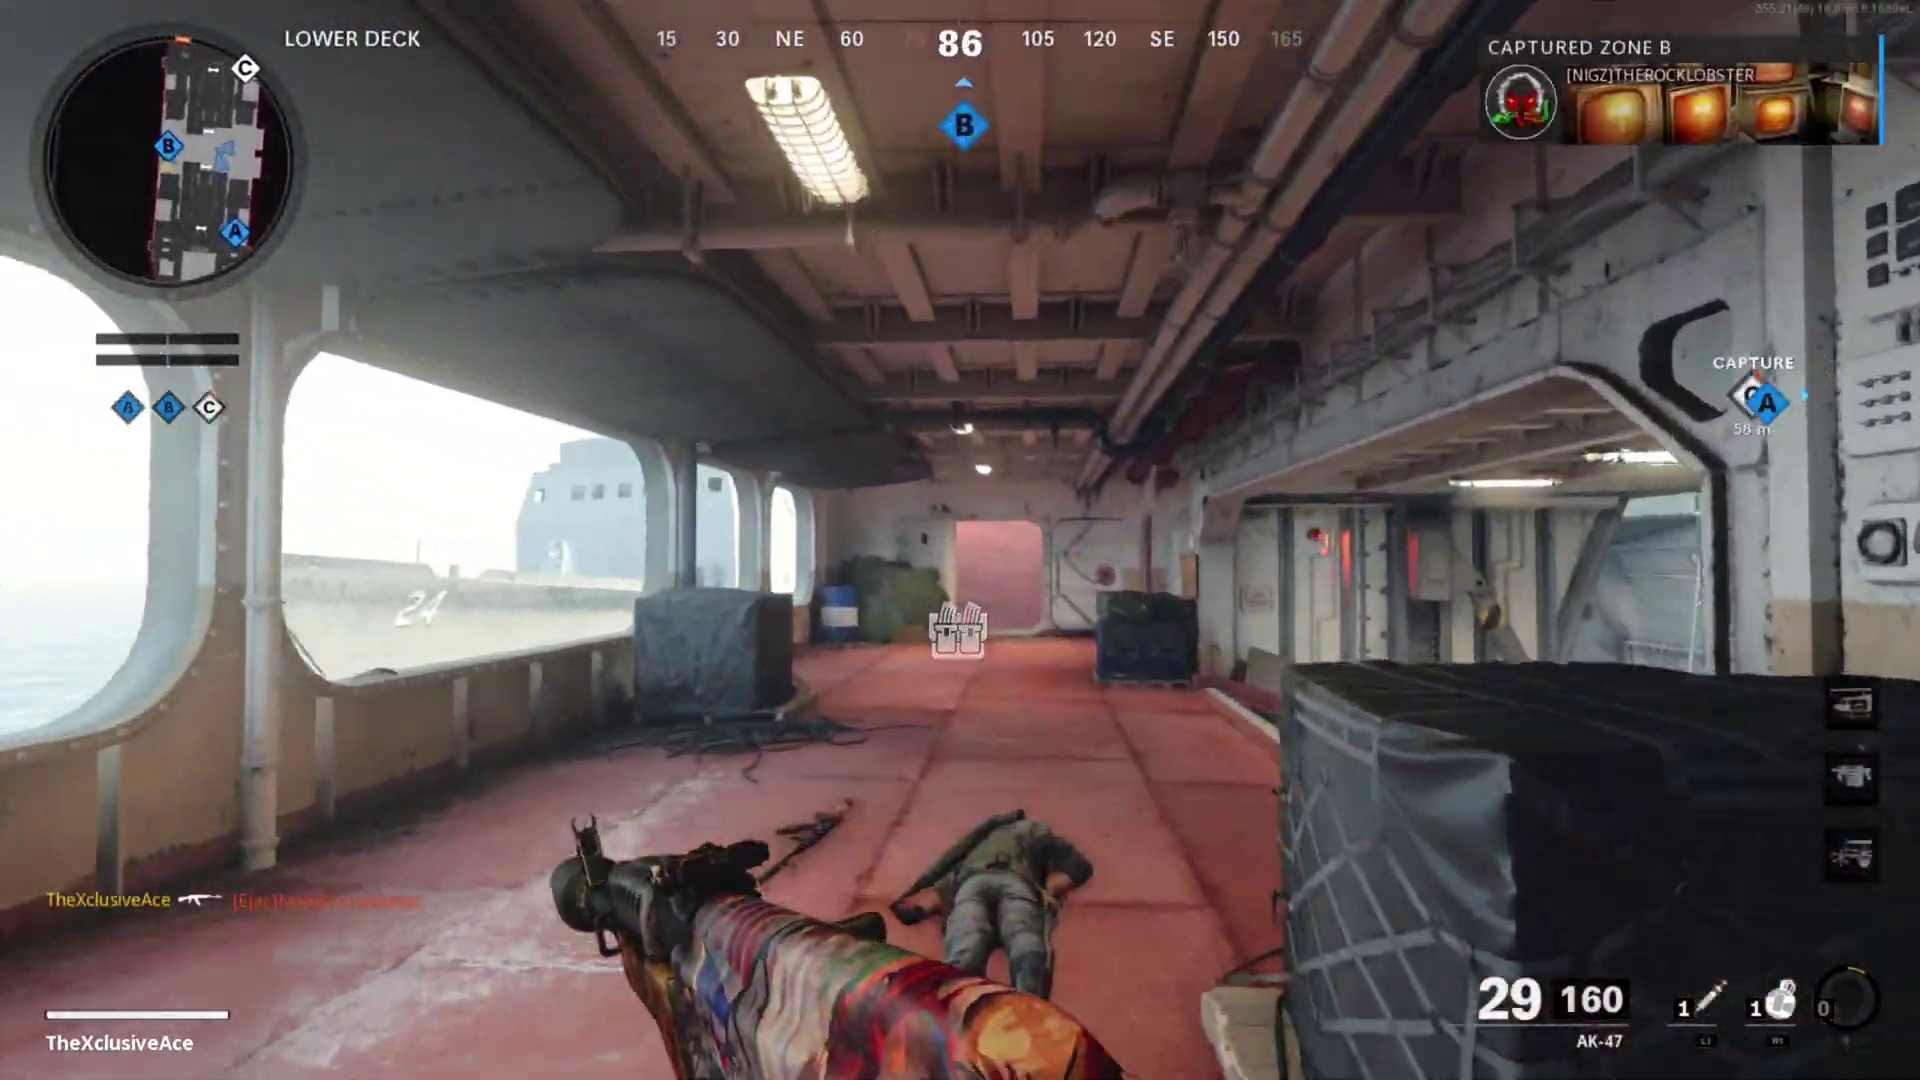person: (881, 806, 1098, 996)
